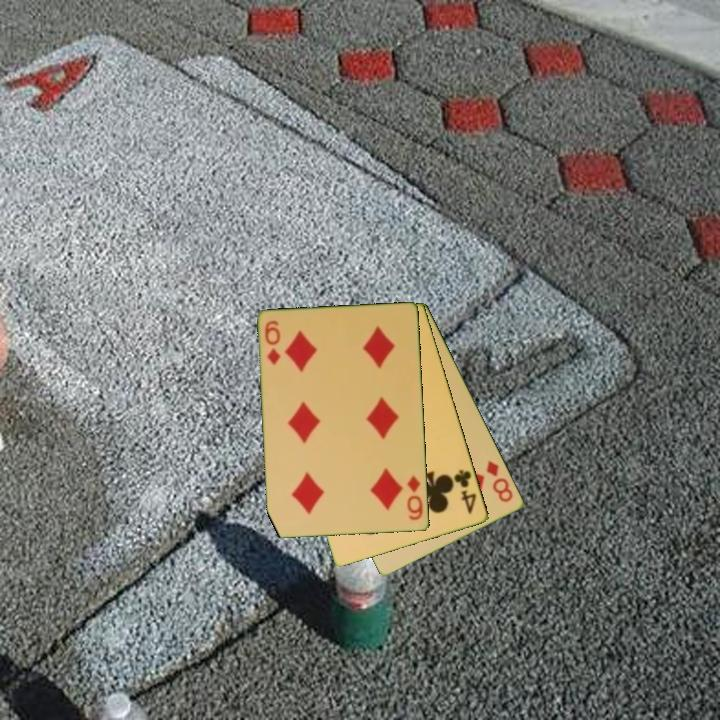4c: (451, 466, 480, 517)
6d: (404, 472, 426, 523), (262, 317, 284, 368)
8d: (483, 457, 516, 505)
